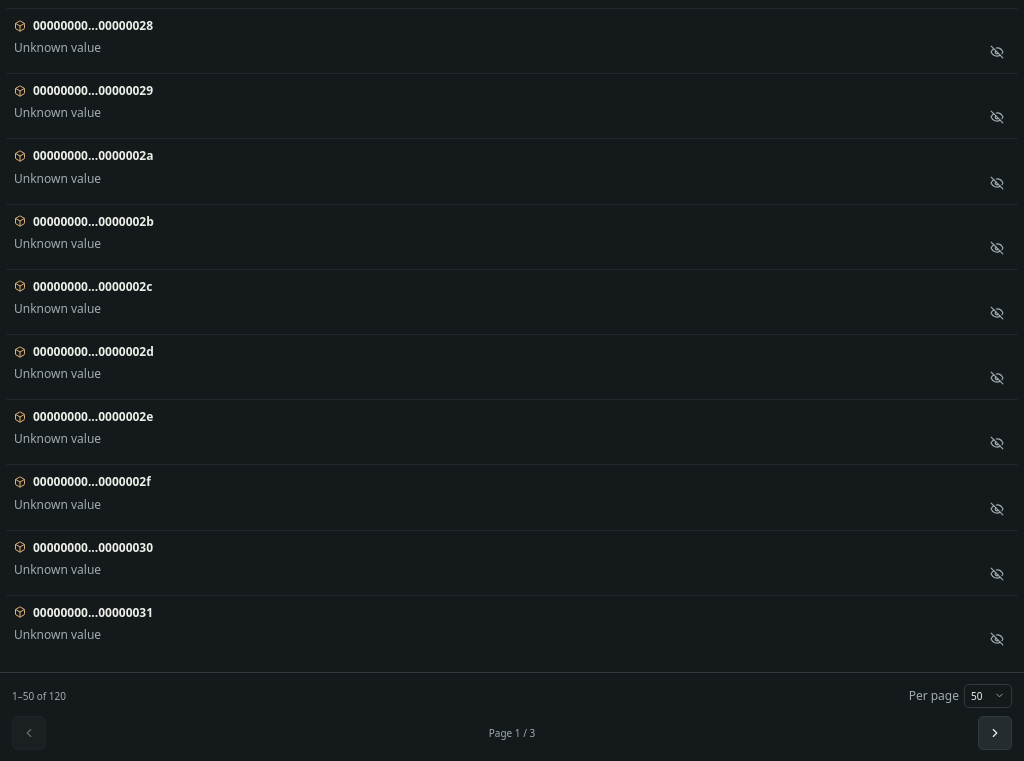
Test: EntityBrowser paging › pages through the entities it is given
(page scrolled)
Click the button named "Next entity page" at (995, 733), box [978, 716, 1012, 750]
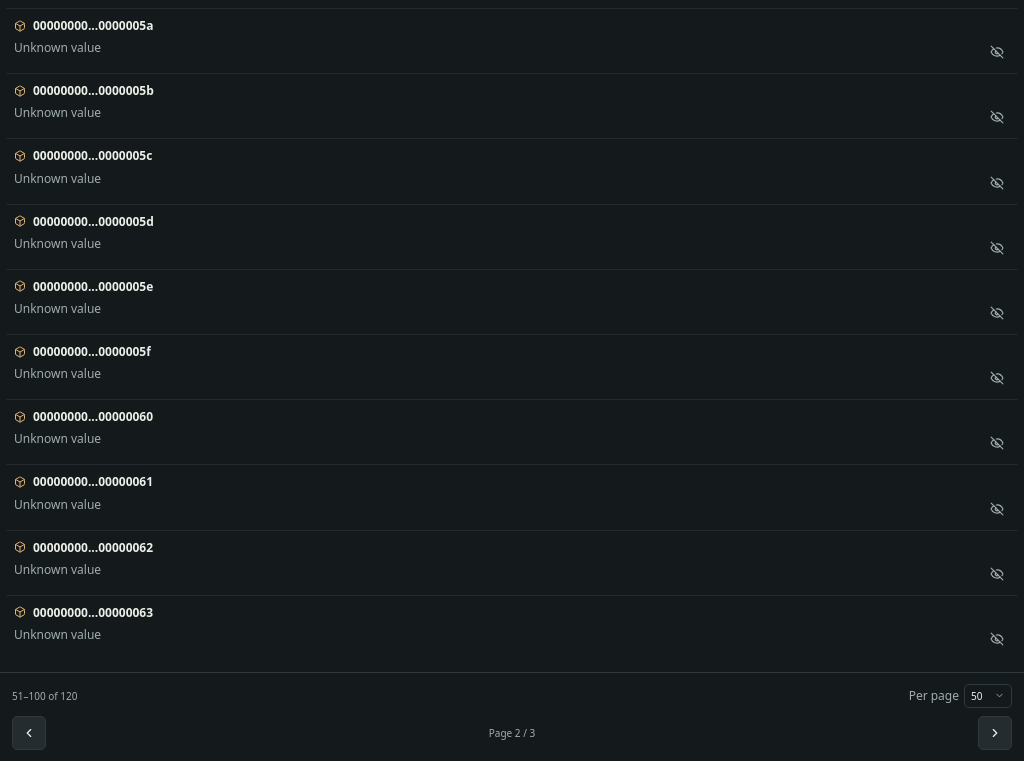
Result: the text "Page 2 / 3" is shown at [489, 725, 535, 741]
